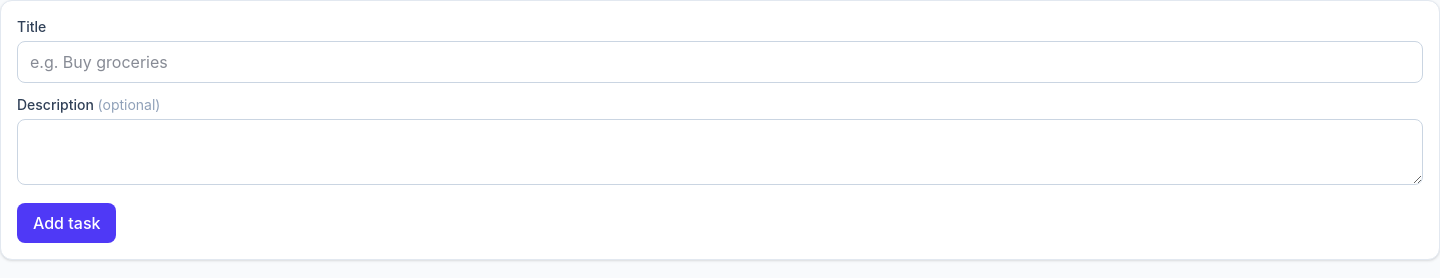
Test: TaskForm › sends trimmed values and clears the form when the server accepts
Type "  Buy milk  " into the field labelled "Title" at (720, 62), box x1=17 y1=41 x2=1423 y2=83
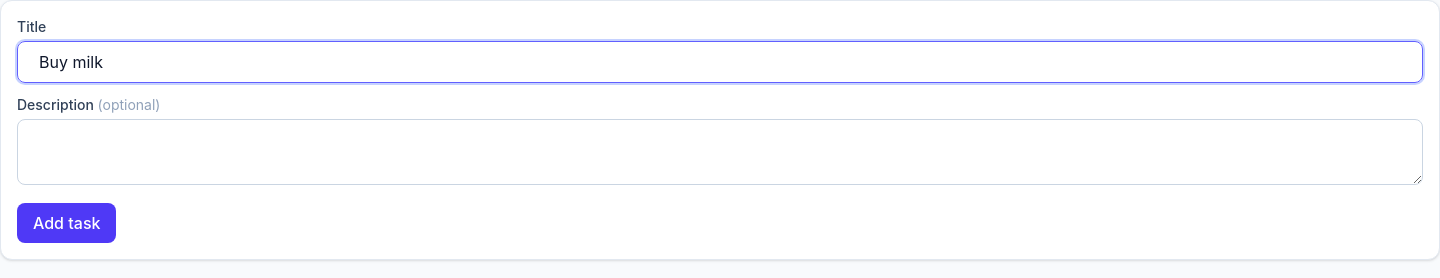
Type " 2 litres " into the text box labelled "Description (optional)" at (720, 152), box x1=17 y1=119 x2=1423 y2=185
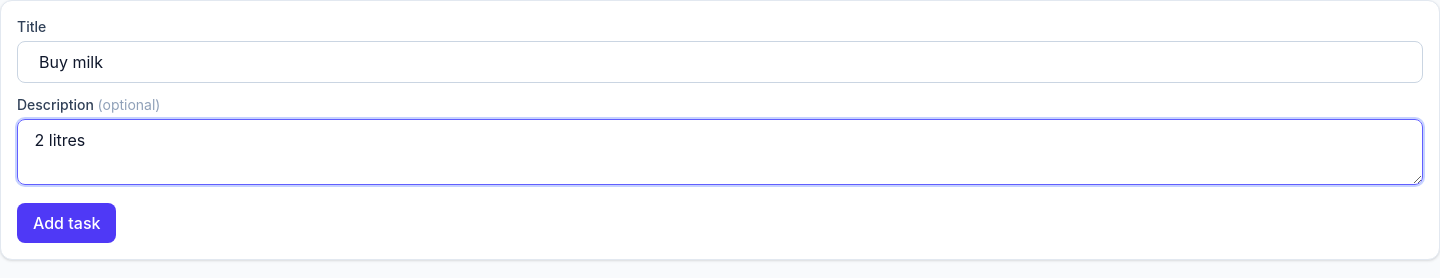
Click the button "Add task" at (67, 223), box x1=17 y1=203 x2=116 y2=243
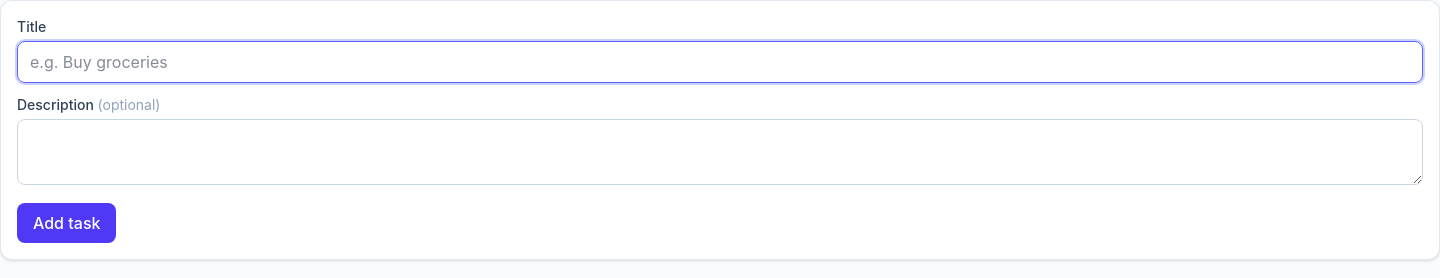
Check: the field labelled "Title" is empty, box x1=17 y1=41 x2=1423 y2=83
